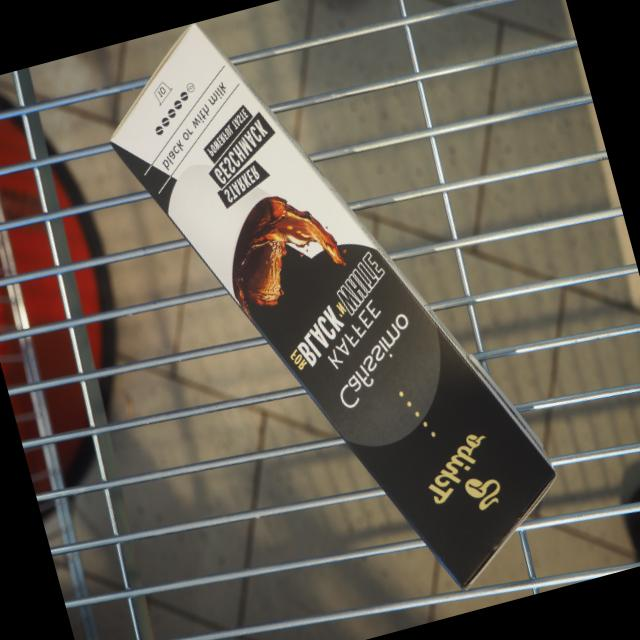Simo Kaffee BW: (103, 21, 560, 600)
